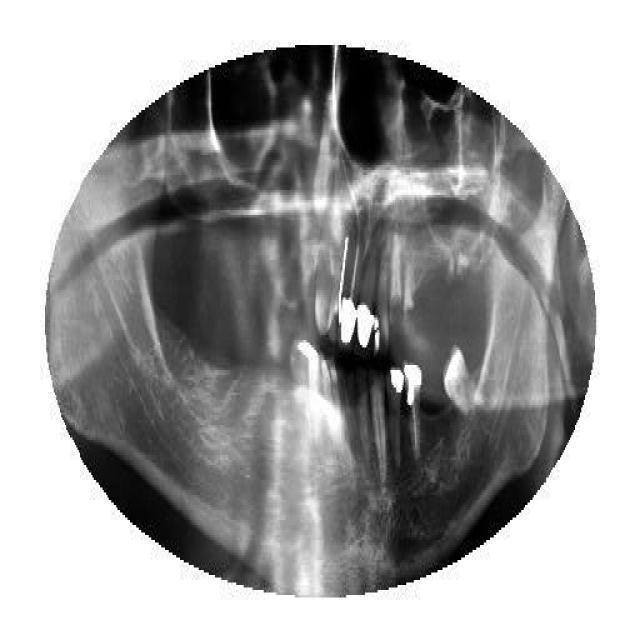Cavity: (390, 231, 405, 331), (404, 263, 415, 325)
Fillings: (358, 231, 382, 349), (385, 361, 406, 479), (374, 246, 390, 359)
Implant: (338, 231, 362, 349), (404, 360, 423, 465)
